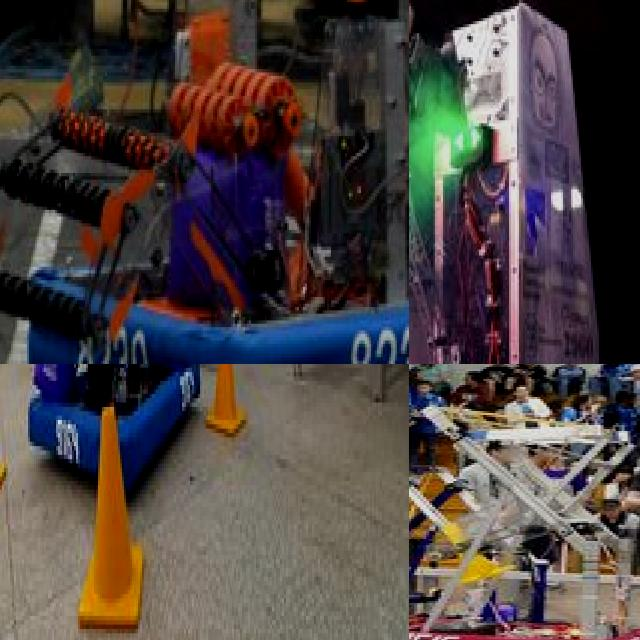FRC-Robots: (0, 0, 409, 364), (409, 0, 640, 364), (409, 368, 640, 640), (0, 364, 232, 494)
